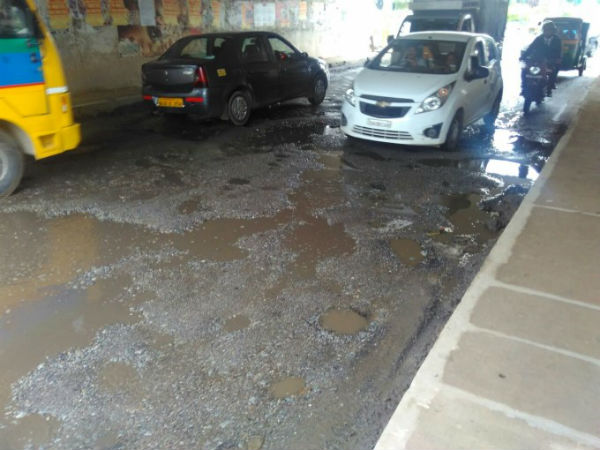pothole: (305, 280, 370, 344), (248, 362, 329, 412), (443, 186, 495, 238)
